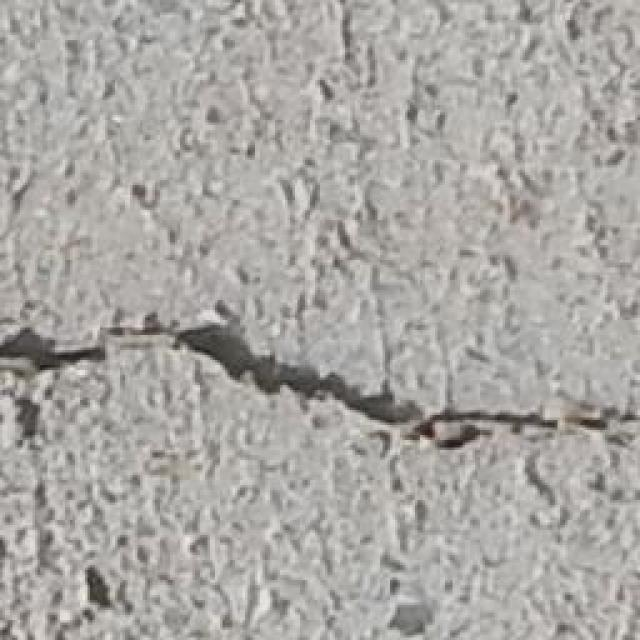concrete-crack: (0, 316, 640, 454)
